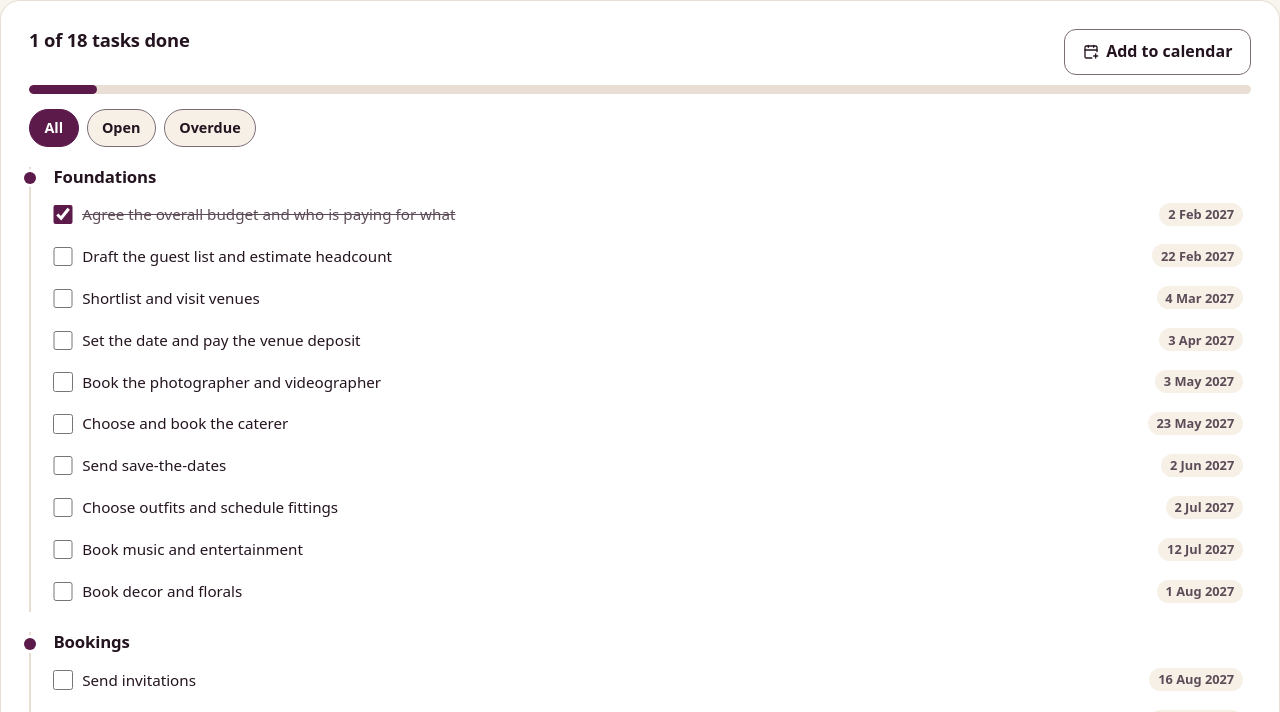
Test: TimelinePanel › filters to open and overdue, stating the filter and any empty result
What coordinates should you click on to do the following:
click the button "Open"
I would click on:
 (121, 128)
Its box is [86,109,156,147].
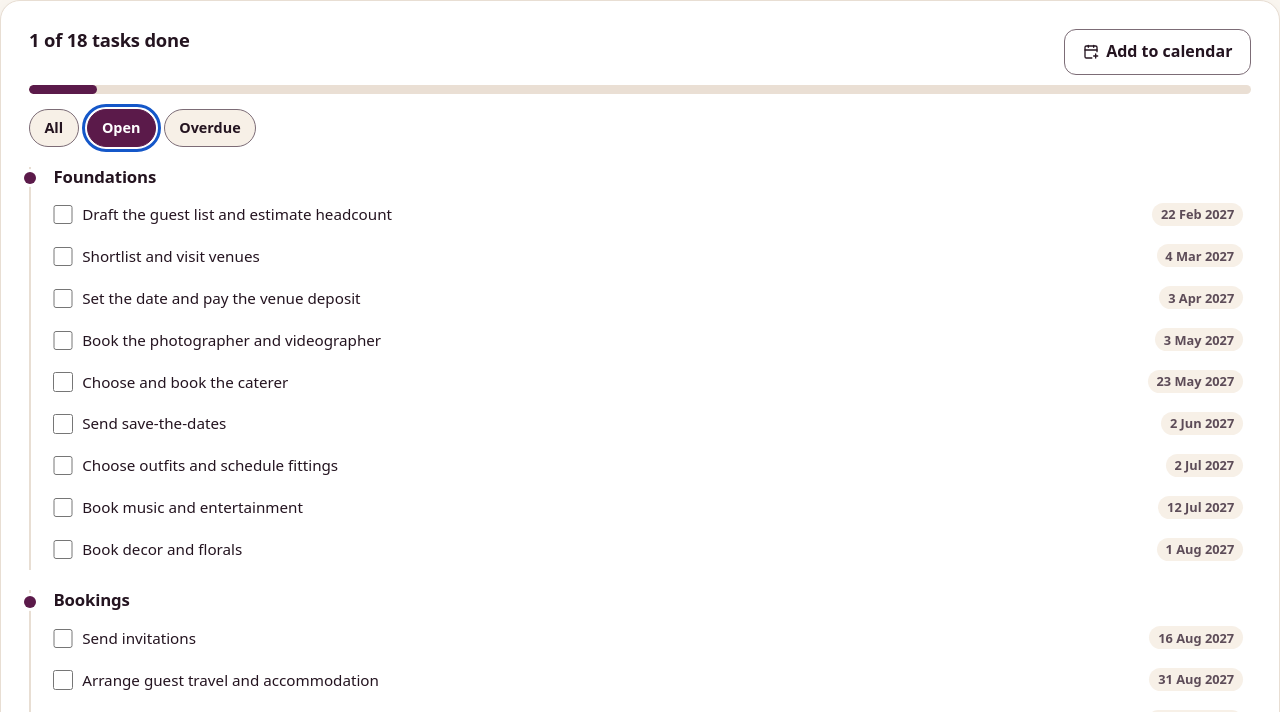
expect the number of checkboxes is 17: met
What coordinates should you click on to do the following:
click the button "Overdue"
I would click on:
 (210, 128)
Its box is [164,109,256,147].
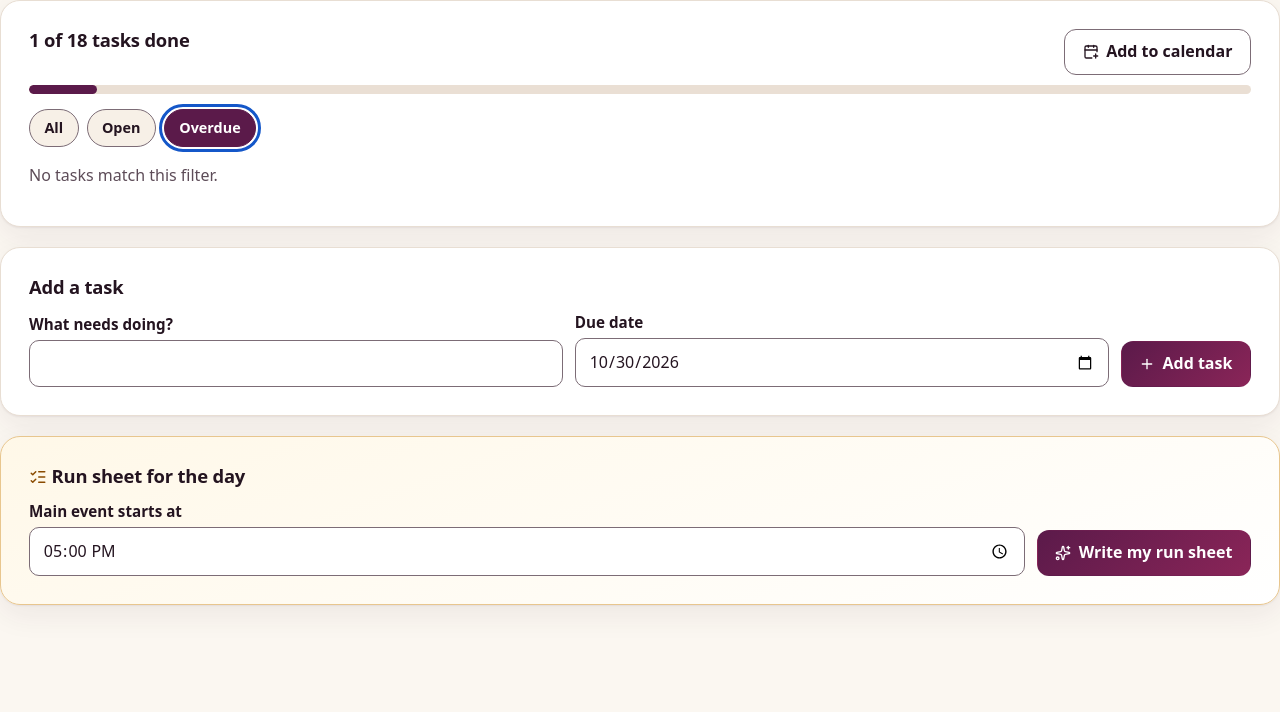
expect the text "No tasks match this filter." is shown: met, box [29,164,218,186]
